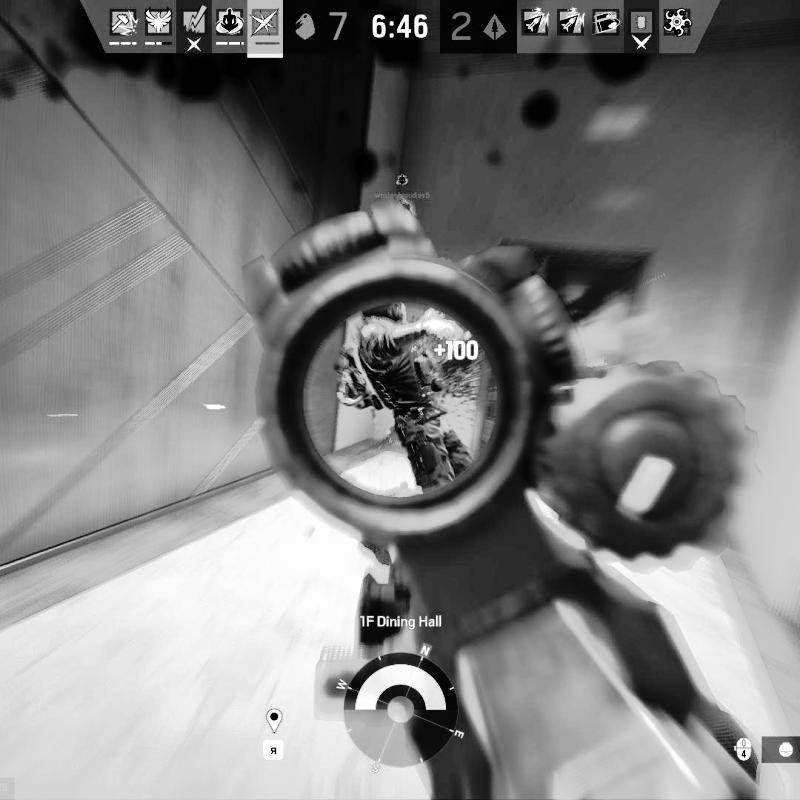Character: (335, 294, 479, 484)
Friend_label: (372, 169, 434, 202)
Head: (365, 302, 410, 325)
